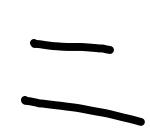eqv: (21, 39, 145, 125)
